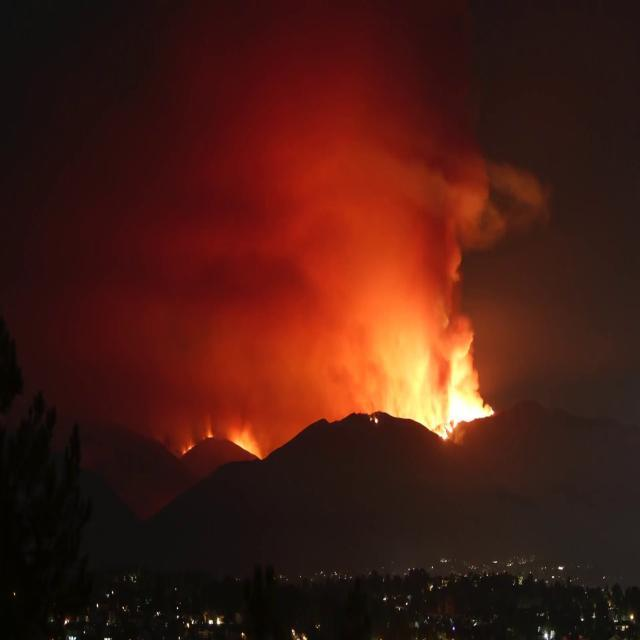Fire: (442, 379, 494, 439), (228, 432, 262, 459), (182, 442, 196, 454), (369, 416, 378, 424), (206, 433, 215, 440)
Smoke: (50, 48, 494, 441)
